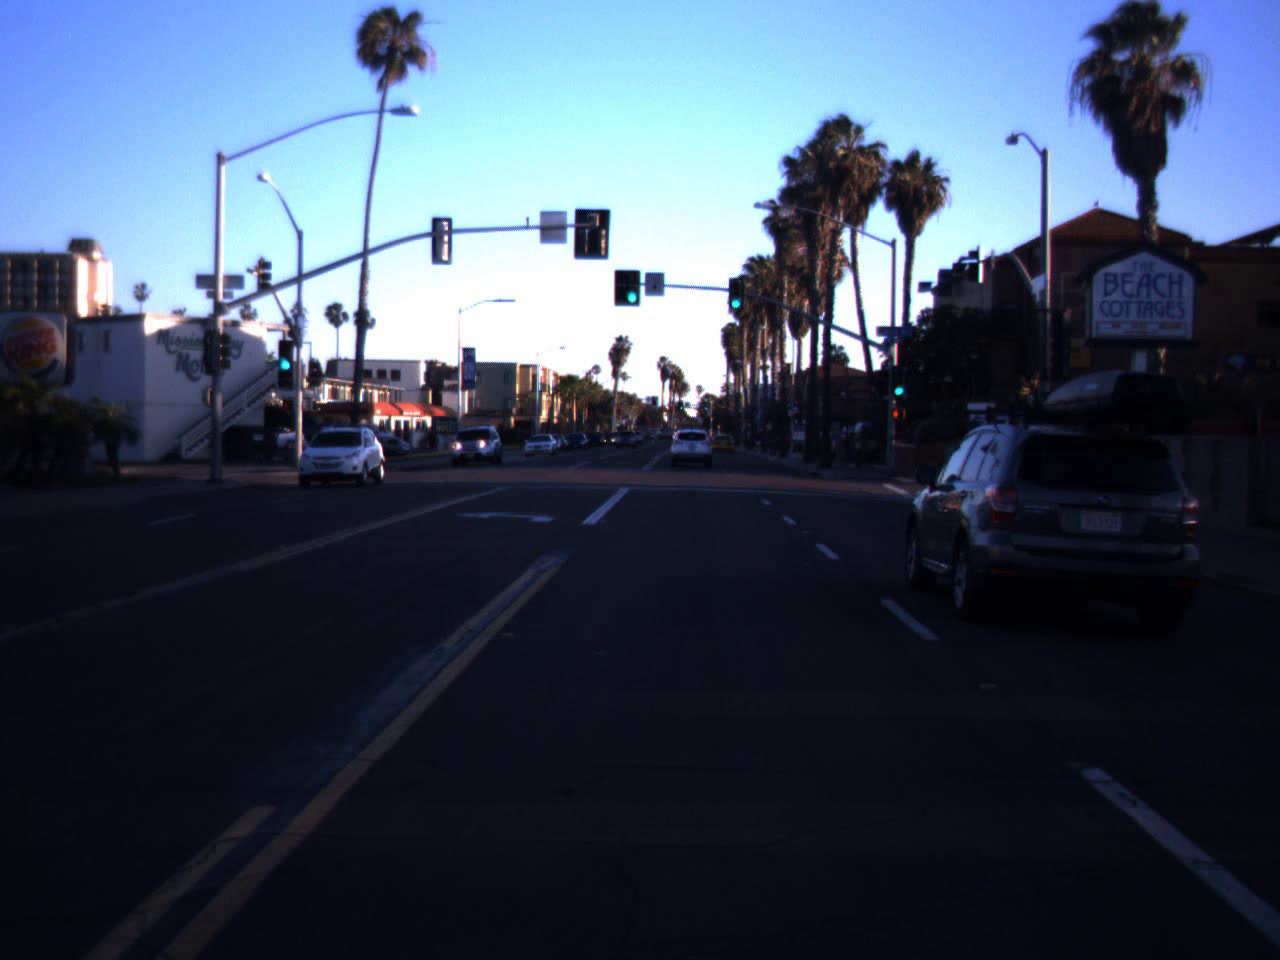go: (274, 333, 298, 373), (620, 266, 644, 306), (724, 280, 748, 310), (890, 367, 908, 397)
